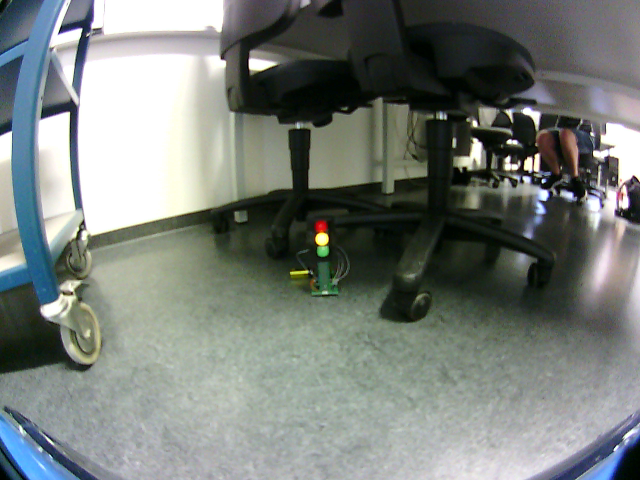yellow trafficlight: (311, 219, 333, 260)
